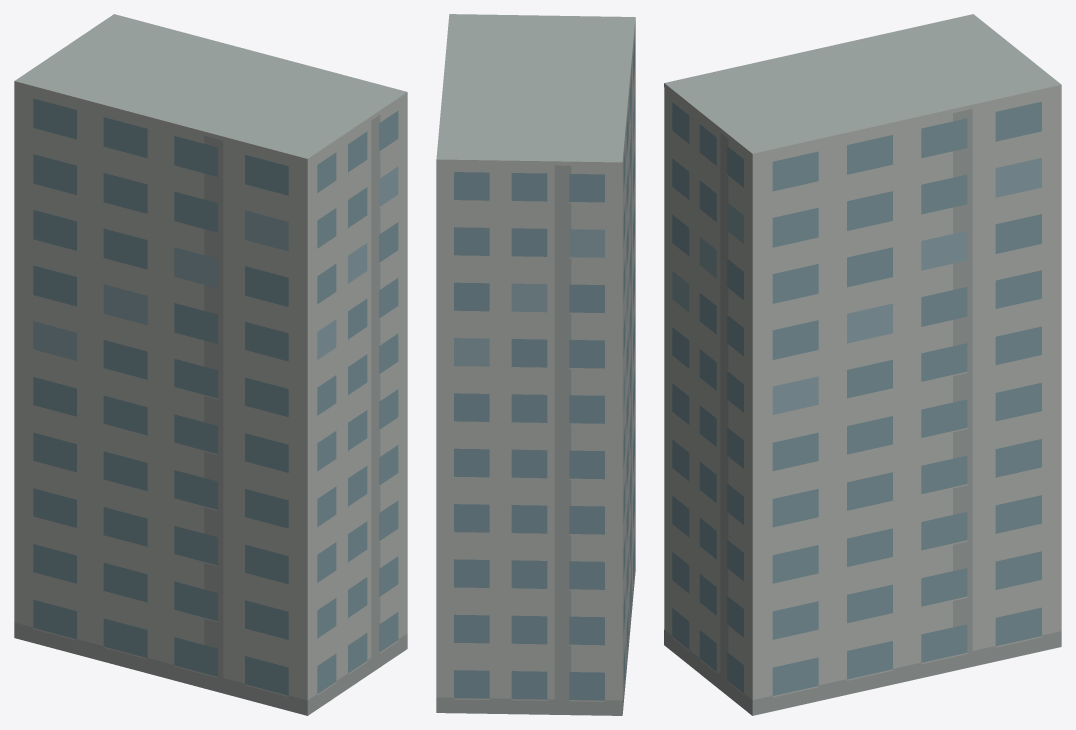
File: residential-c5c1018e-f8b1-4fa3-be33-0103a2210905.glb
3 views of the same model, side by side, from view 1: azimuth 30°, elevation 25°; view 2: azimuth 150°, elevation 25°; view 3: azimuth 270°, elevation 25° (orthographic).
Parts seen in each view (by area): view 1: residential-c5c1018e-f8b1-4fa3-be33-0103a2210905.tmp; view 2: residential-c5c1018e-f8b1-4fa3-be33-0103a2210905.tmp; view 3: residential-c5c1018e-f8b1-4fa3-be33-0103a2210905.tmp.
Boxes of the visible parts, left/top/right/bottom form: residential-c5c1018e-f8b1-4fa3-be33-0103a2210905.tmp: left=14, top=14, right=407, bottom=715; residential-c5c1018e-f8b1-4fa3-be33-0103a2210905.tmp: left=436, top=14, right=635, bottom=715; residential-c5c1018e-f8b1-4fa3-be33-0103a2210905.tmp: left=664, top=14, right=1061, bottom=715.
Bounding box in the file's own units: 17.61 × 33 × 21.16.
